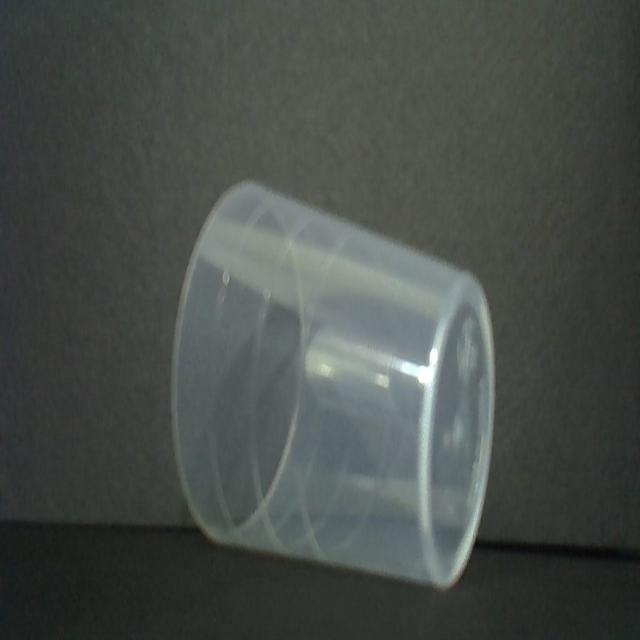cup: (170, 177, 499, 590)
